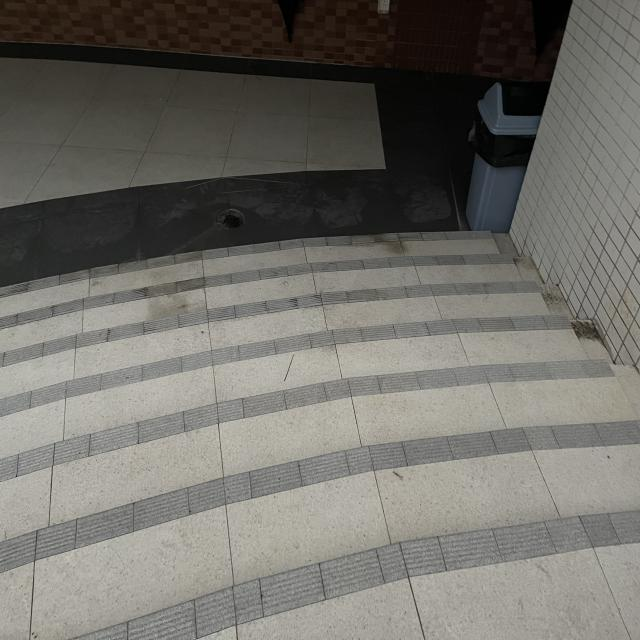Stairs: (0, 223, 640, 640)
